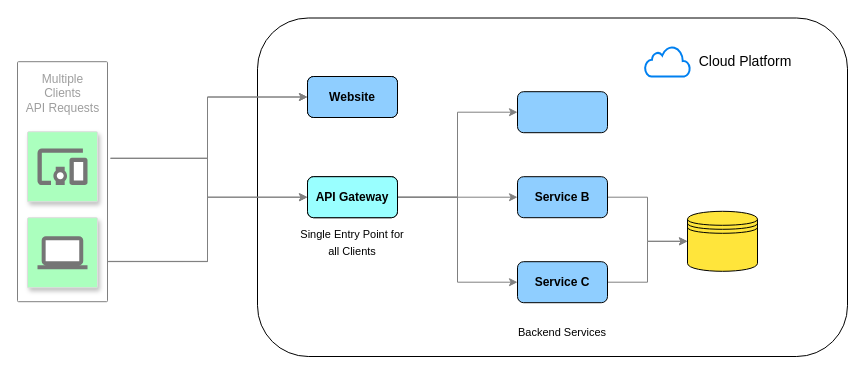
This 865x374 diagram has some shape labels left out. The centre of each missing label's shape, as x and y in pixels:
"Database" goes at (722,240).
"Service A" goes at (562,112).
